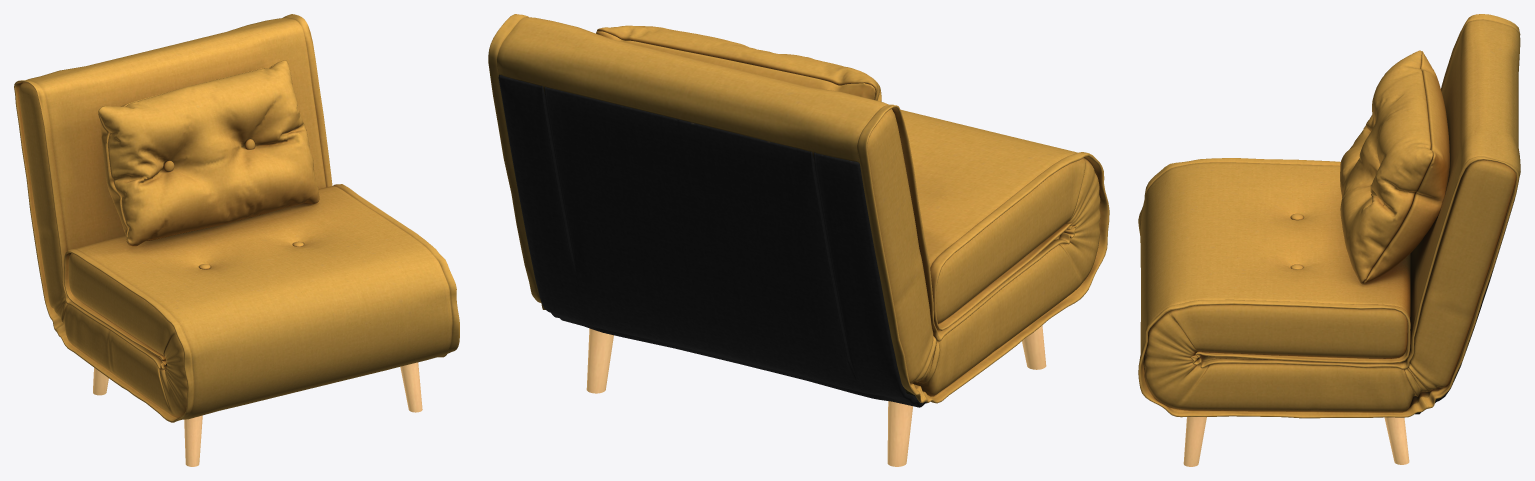
Rendered from single_sofa.glb.
3 renders of one model, left to right at view 1: azimuth 30°, elevation 25°; view 2: azimuth 150°, elevation 25°; view 3: azimuth 270°, elevation 25°, orthographic. The views are drawn at different scales.
Visible parts, largest first — view 1: FABRIC001, WOOD; view 2: FABRIC001, BLACK_FABRIC001, WOOD; view 3: FABRIC001, WOOD.
Boxes of the visible parts, bbox=[...] form: FABRIC001: bbox=[14, 14, 459, 422]; WOOD: bbox=[93, 362, 422, 466]; FABRIC001: bbox=[488, 14, 1109, 403]; BLACK_FABRIC001: bbox=[498, 75, 927, 407]; WOOD: bbox=[586, 325, 1046, 466]; FABRIC001: bbox=[1138, 14, 1520, 418]; WOOD: bbox=[1183, 417, 1409, 466].
Size of what is drawn, in the model's own units: 77.26 by 77.83 by 85.34.
Materials: 3 (3 with a texture image).
